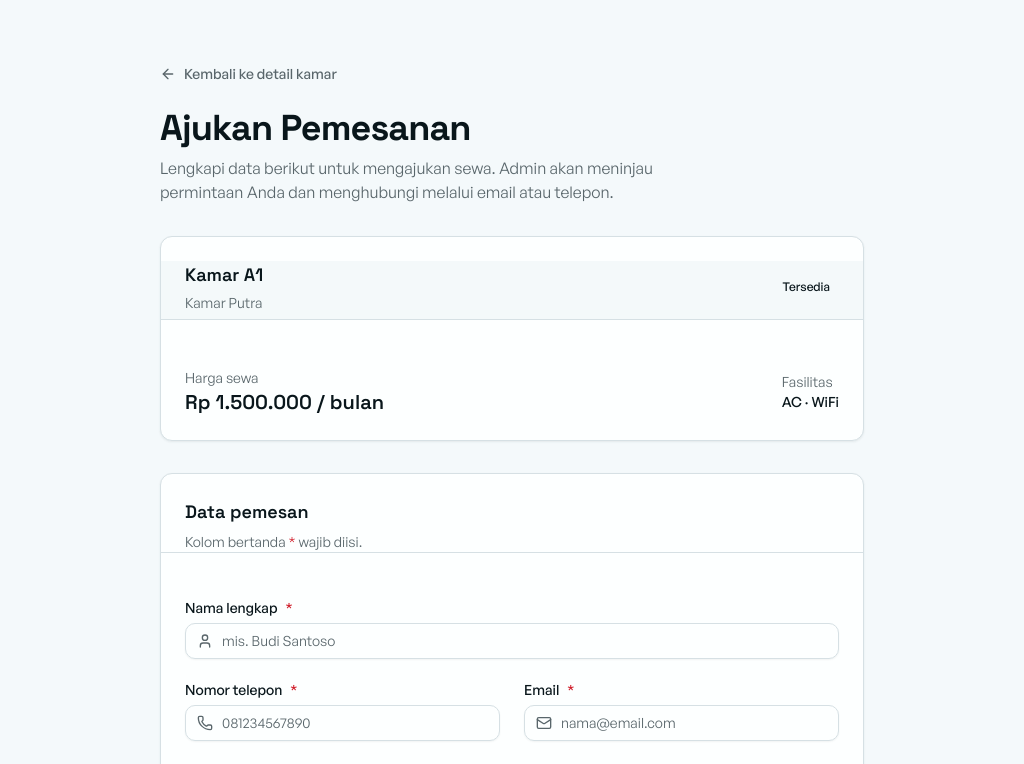
Test: BookingPage › rejects an invalid email and phone format
Type "Budi" into the field with test id "booking.name_input". click: (512, 641)
box: [185,623,839,659]
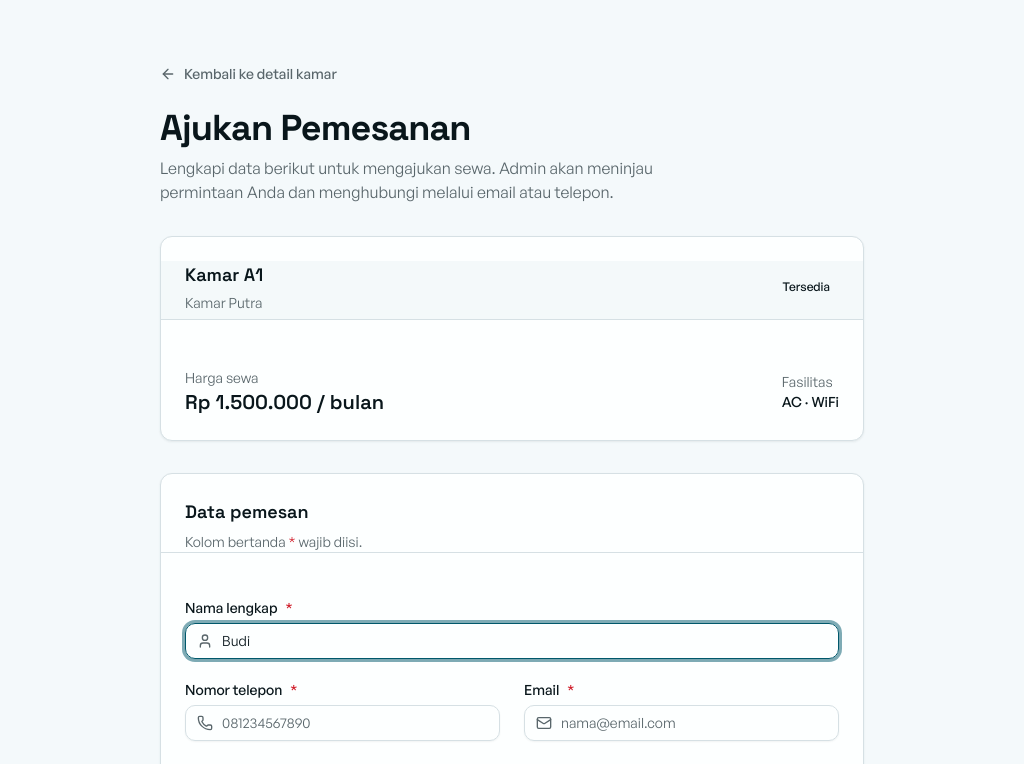
Type "12345" into the field with test id "booking.phone_input". click: (342, 723)
box: [185,705,500,741]
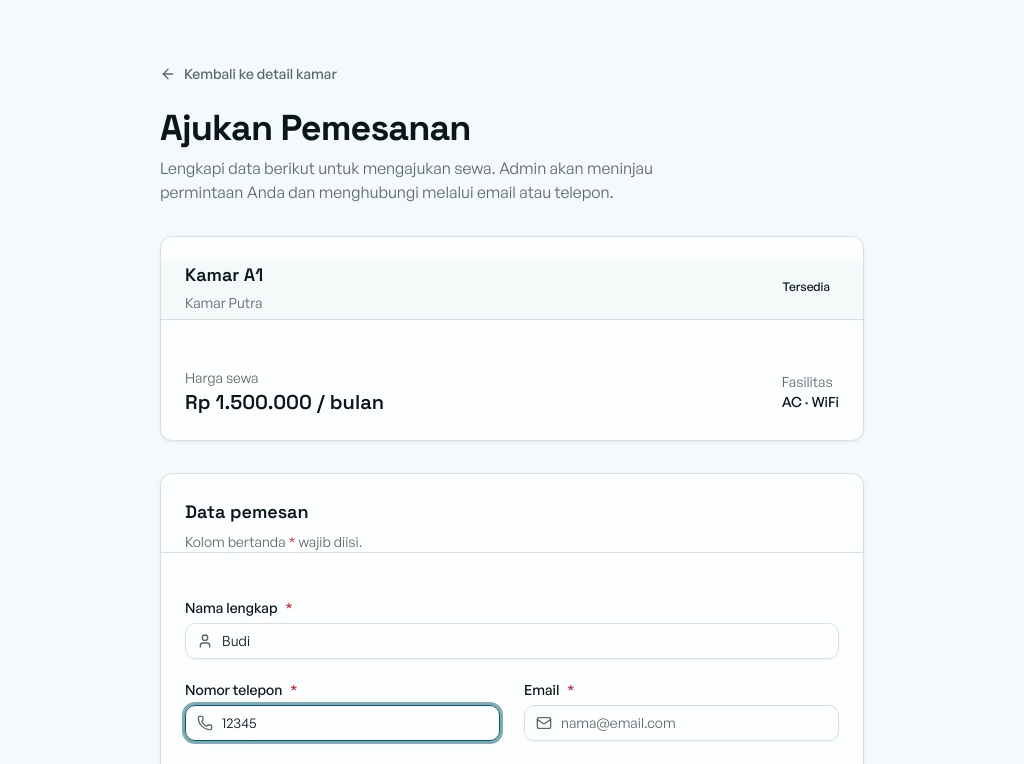
Type "not-an-email" into the field with test id "booking.email_input". click: (682, 723)
box: [524,705,839,741]
(page scrolled)
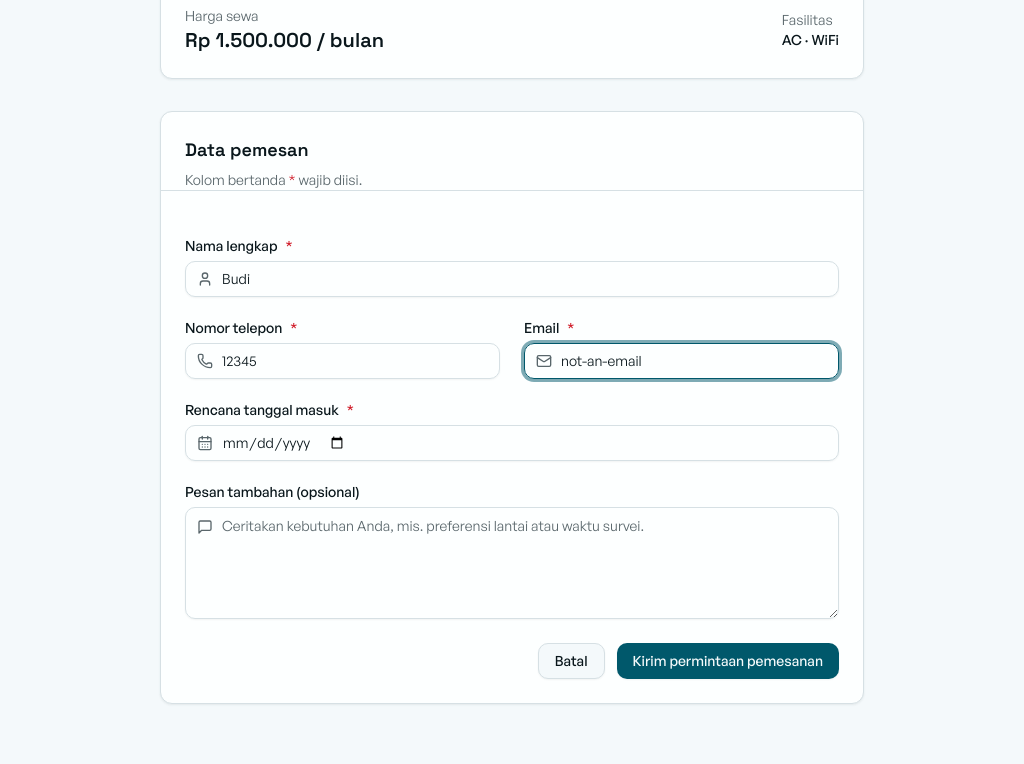
Type "2026-11-01" into the date field with test id "booking.move_in_date_input". click: (512, 443)
box: [185,425,839,461]
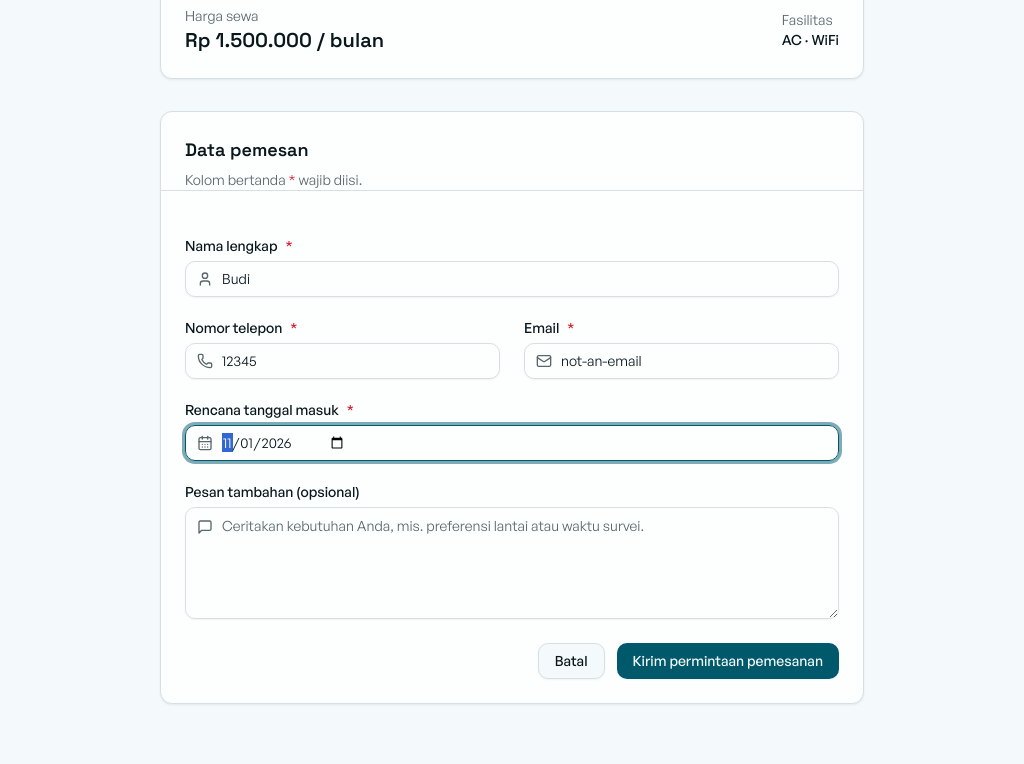
Click the button with test id "booking.submit_button". click: (728, 661)
box: [617,643,839,679]
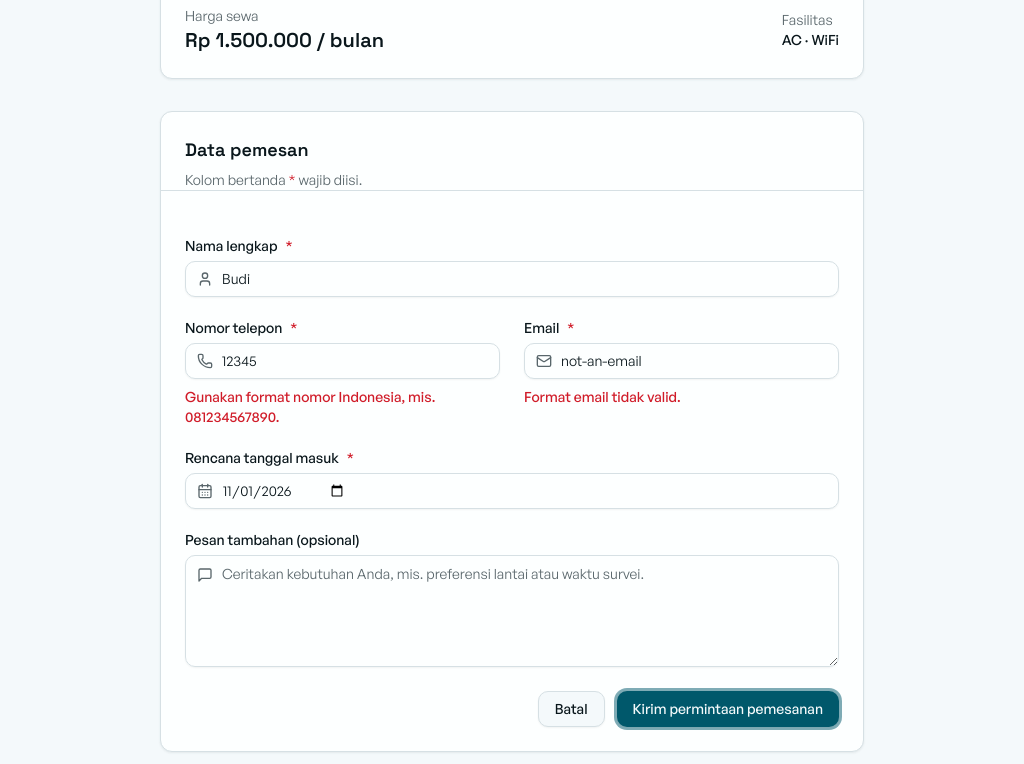
Expected: the text "Gunakan format nomor Indonesia, mis. 081234567890." is shown, [185,388,435,425]
Expected: the text "Format email tidak valid." is shown, [524,388,681,405]
